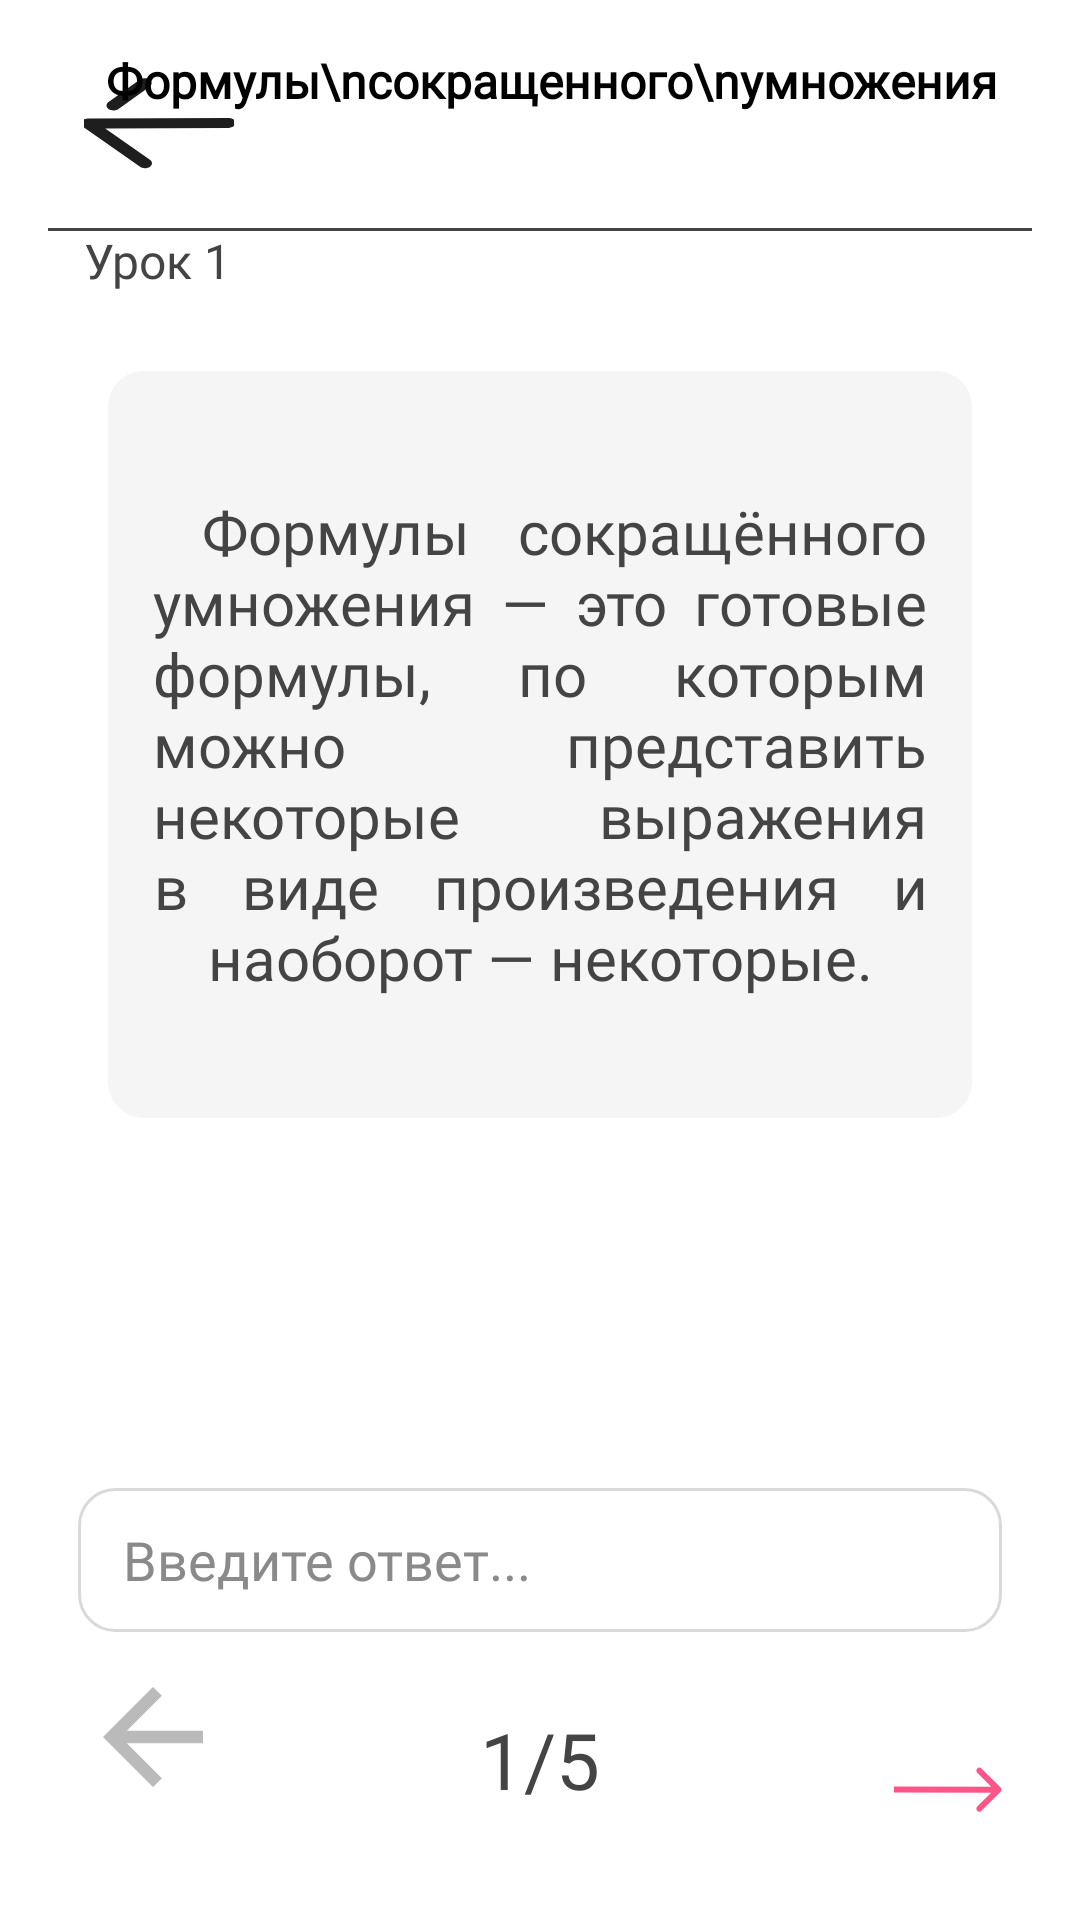

Where icons sit on this 1080x1920 app screen, as (x1, y1, x2, y2):
class back: (103, 1687, 203, 1787)
class forward: (894, 1767, 1002, 1812)
